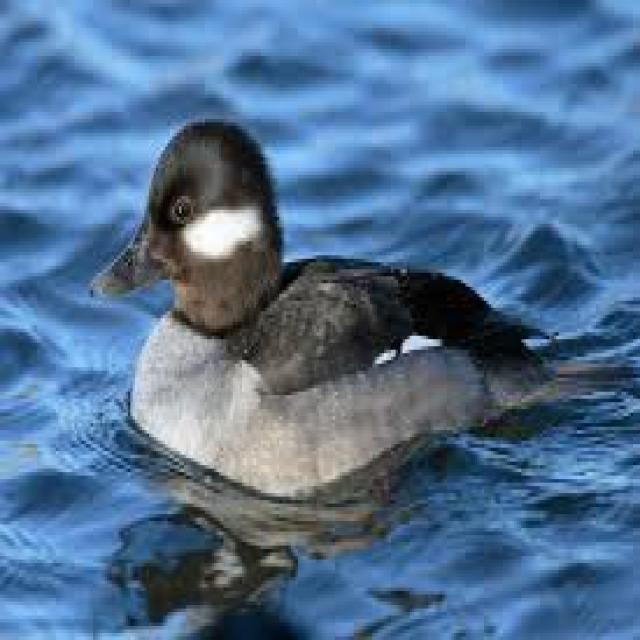Duck: (79, 101, 612, 512)
